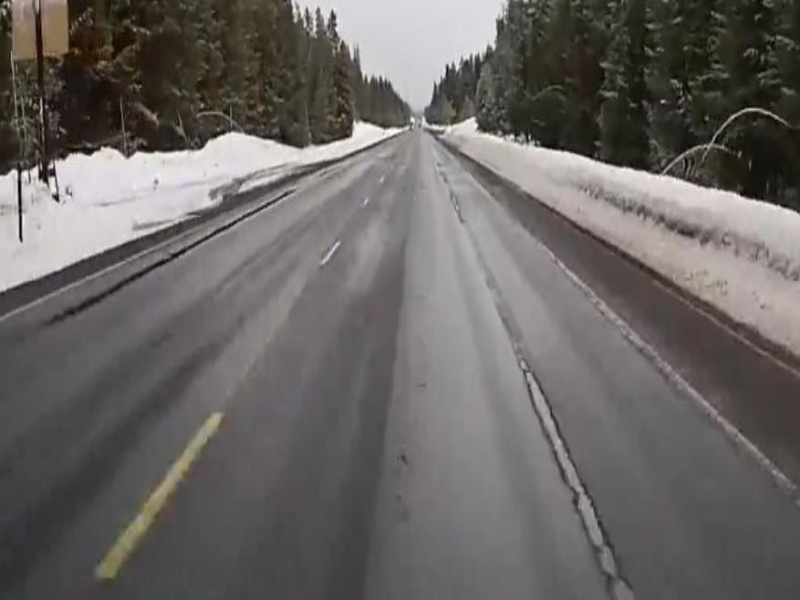pothole: (514, 353, 556, 438), (585, 514, 626, 600), (554, 437, 592, 520)
